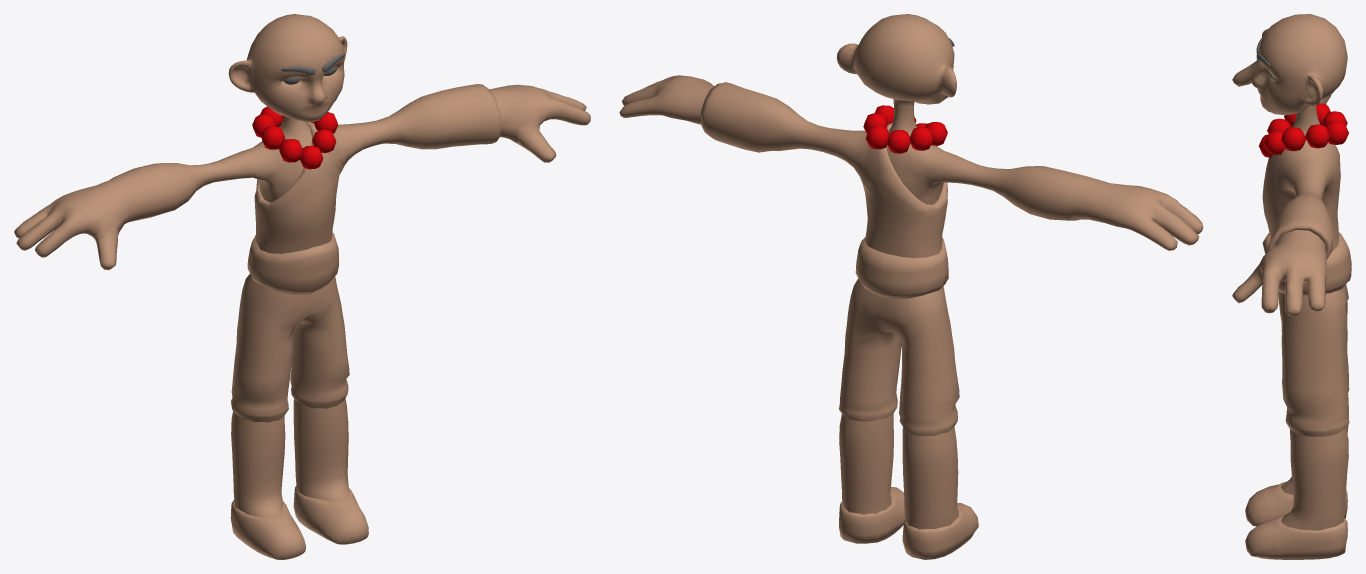
File: CHARA_Body_mesh.FBX
The picture shows the model from 3 angles, left to right: view 1: azimuth 30°, elevation 25°; view 2: azimuth 150°, elevation 25°; view 3: azimuth 270°, elevation 25°; orthographic projection.
Parts seen in each view (by area): view 1: CHARA_Body, CHARA_Necklace; view 2: CHARA_Body, CHARA_Necklace; view 3: CHARA_Body, CHARA_Necklace.
Part boxes in pixels (x1,y1,x2,y2): CHARA_Body: (14,14,590,559); CHARA_Necklace: (252,106,338,169); CHARA_Body: (619,14,1203,559); CHARA_Necklace: (863,105,947,153); CHARA_Body: (1232,14,1351,559); CHARA_Necklace: (1259,103,1348,157).
Bounding box in the file's own units: 40.55 × 35.02 × 7.36.
